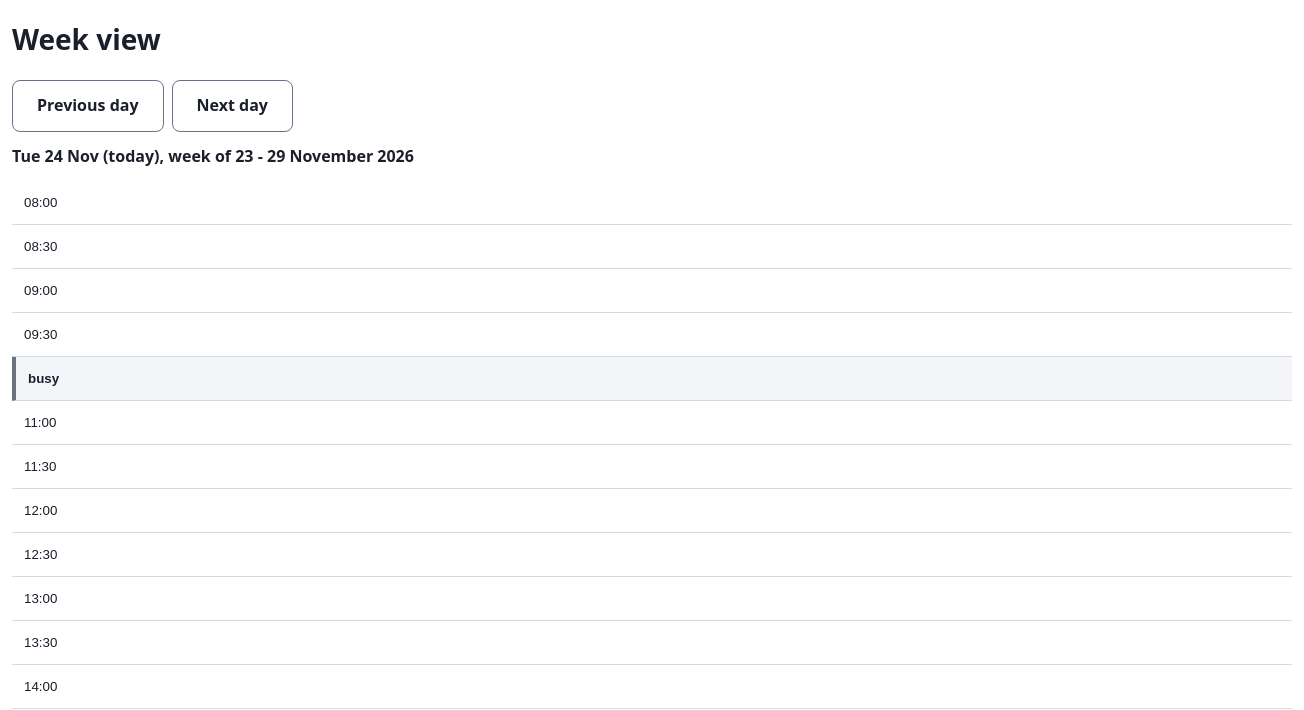
Test: SelectableTimeGrid on a narrow screen › shows one day as a list instead of hiding days
This screenshot has width=1304, height=710.
Expected: the text "Tue 24 Nov (today), week of 23 - 29 November 2026" is shown, top-left (12, 145), bottom-right (414, 167)
Expected: the number of buttons "08:00" is 1, top-left (12, 181), bottom-right (1292, 225)
Click the button "Next day".
click(232, 106)  # box top-left (172, 80), bottom-right (293, 132)
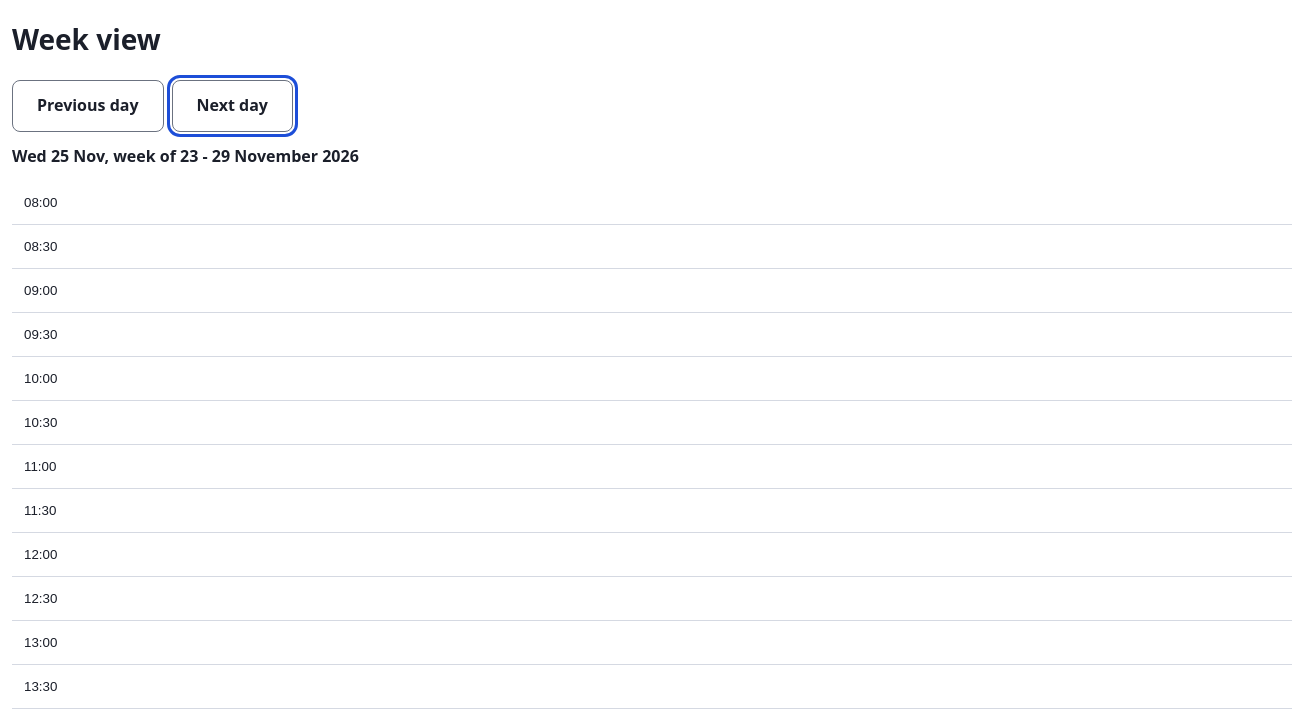
Expected: the text "Wed 25 Nov, week of 23 - 29 November 2026" is shown, top-left (12, 145), bottom-right (359, 167)
Expected: the button "busy" is gone
Click the button "Previous day".
click(88, 106)  # box top-left (12, 80), bottom-right (164, 132)
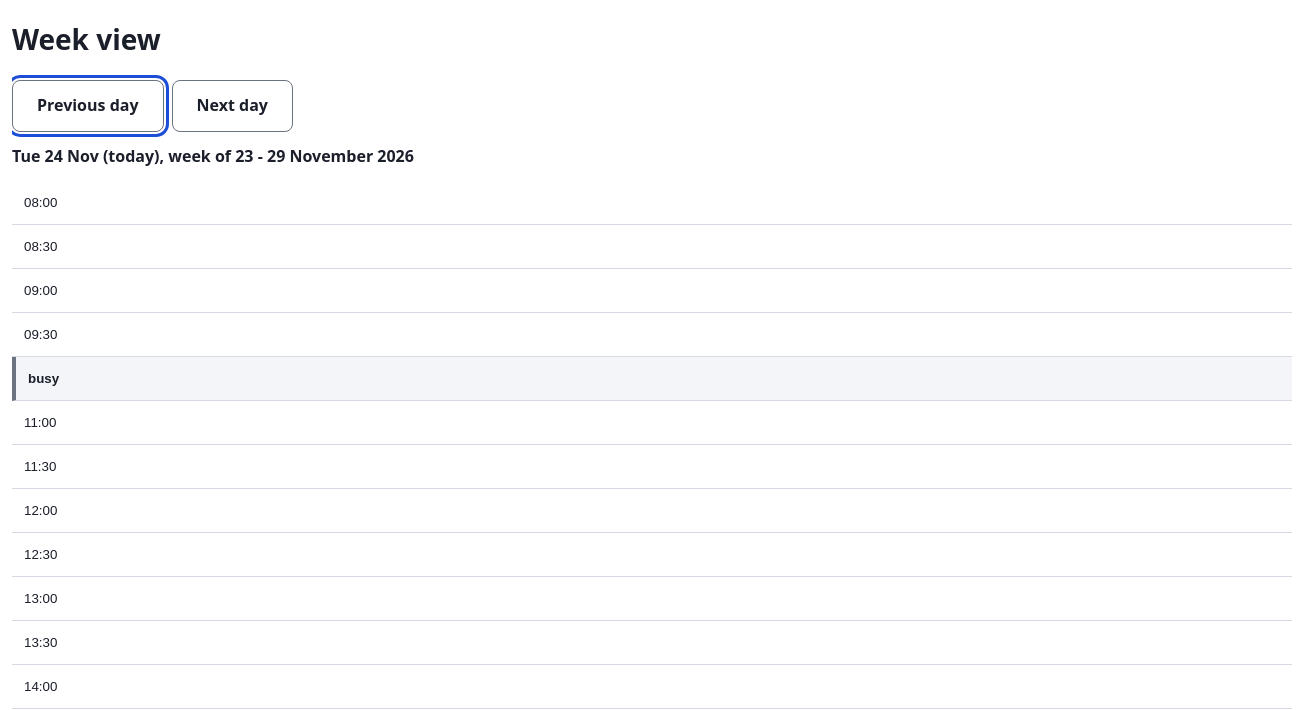
Expected: the button "busy" is shown, top-left (12, 357), bottom-right (1292, 401)
